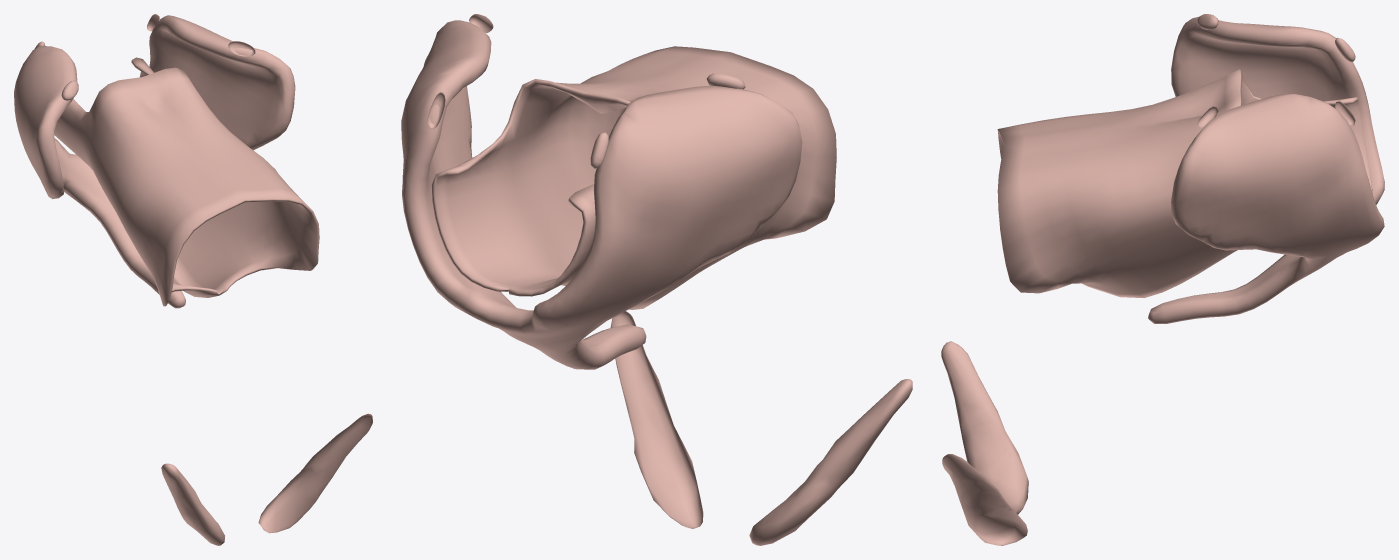
File: neck__organs.987bd84b74.glb
3 views of the same model, side by side, from view 1: azimuth 30°, elevation 25°; view 2: azimuth 150°, elevation 25°; view 3: azimuth 270°, elevation 25° (orthographic). The views are drawn at different scales.
Parts seen in each view (by area): view 1: Laryngopharynx, Thyroid gland, Sublingual gland.l, Sublingual gland.r; view 2: Thyroid gland, Laryngopharynx, Sublingual gland.l, Sublingual gland.r; view 3: Thyroid gland, Laryngopharynx, Sublingual gland.r, Sublingual gland.l.
Part boxes in pixels (x1,y1,x2,y2): Laryngopharynx: (54, 57, 319, 306); Thyroid gland: (14, 15, 295, 308); Sublingual gland.l: (258, 413, 372, 533); Sublingual gland.r: (161, 463, 224, 545); Thyroid gland: (401, 20, 802, 369); Laryngopharynx: (431, 46, 836, 309); Sublingual gland.l: (610, 311, 703, 528); Sublingual gland.r: (749, 379, 912, 545); Thyroid gland: (1148, 16, 1384, 323); Laryngopharynx: (997, 69, 1372, 297); Sublingual gland.r: (941, 341, 1028, 514); Sublingual gland.l: (942, 454, 1027, 545).
Bounding box in the file's own units: 47.09 × 72.38 × 61.85.
